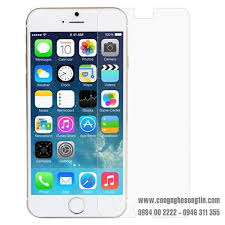iphone: (22, 3, 130, 223)
iphone4: (22, 3, 130, 223)
